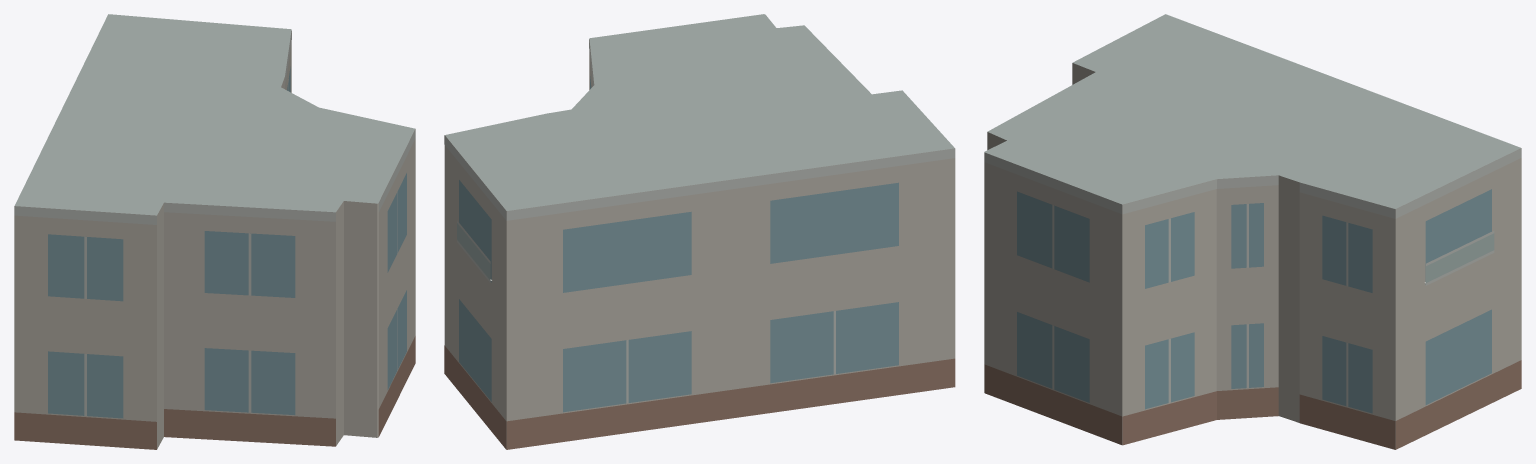
Rendered from survey-upis-32511195.glb.
3 renders of one model, left to right at view 1: azimuth 30°, elevation 25°; view 2: azimuth 150°, elevation 25°; view 3: azimuth 270°, elevation 25°, orthographic. The views are drawn at different scales.
Visible parts, largest first — view 1: survey-upis-32511195.tmp; view 2: survey-upis-32511195.tmp; view 3: survey-upis-32511195.tmp.
Boxes of the visible parts, bbox=[...] form: survey-upis-32511195.tmp: bbox=[14, 14, 415, 449]; survey-upis-32511195.tmp: bbox=[444, 14, 955, 449]; survey-upis-32511195.tmp: bbox=[984, 14, 1521, 449].
Bounding box in the file's own units: 9.05 × 5.2 × 10.53.
